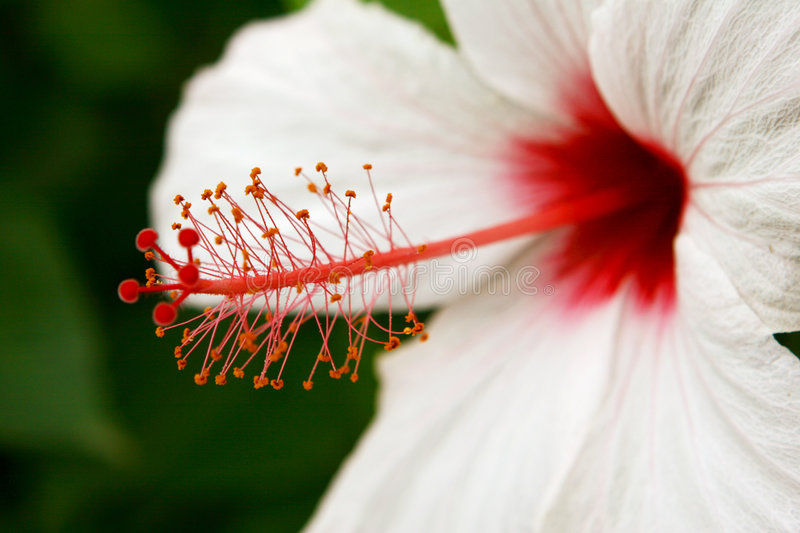Hibiscus: (37, 1, 800, 533)
